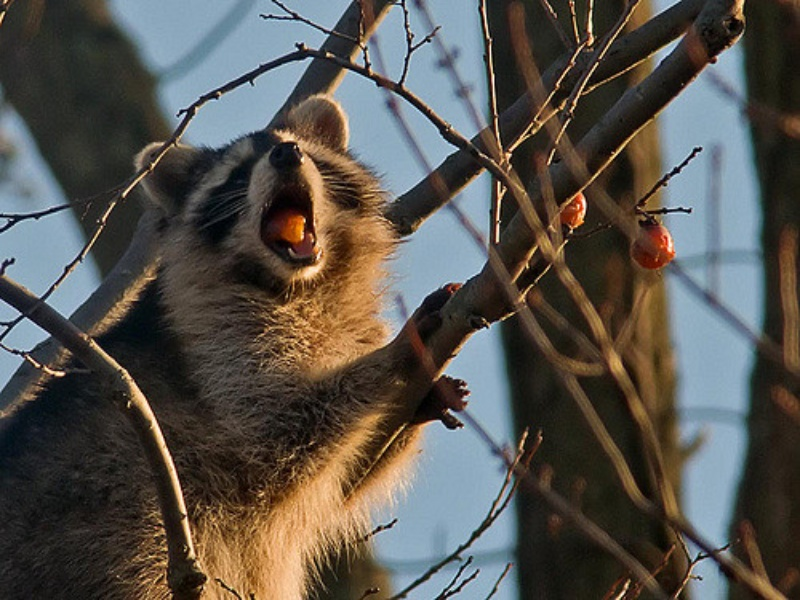raccoon: (11, 82, 474, 594)
